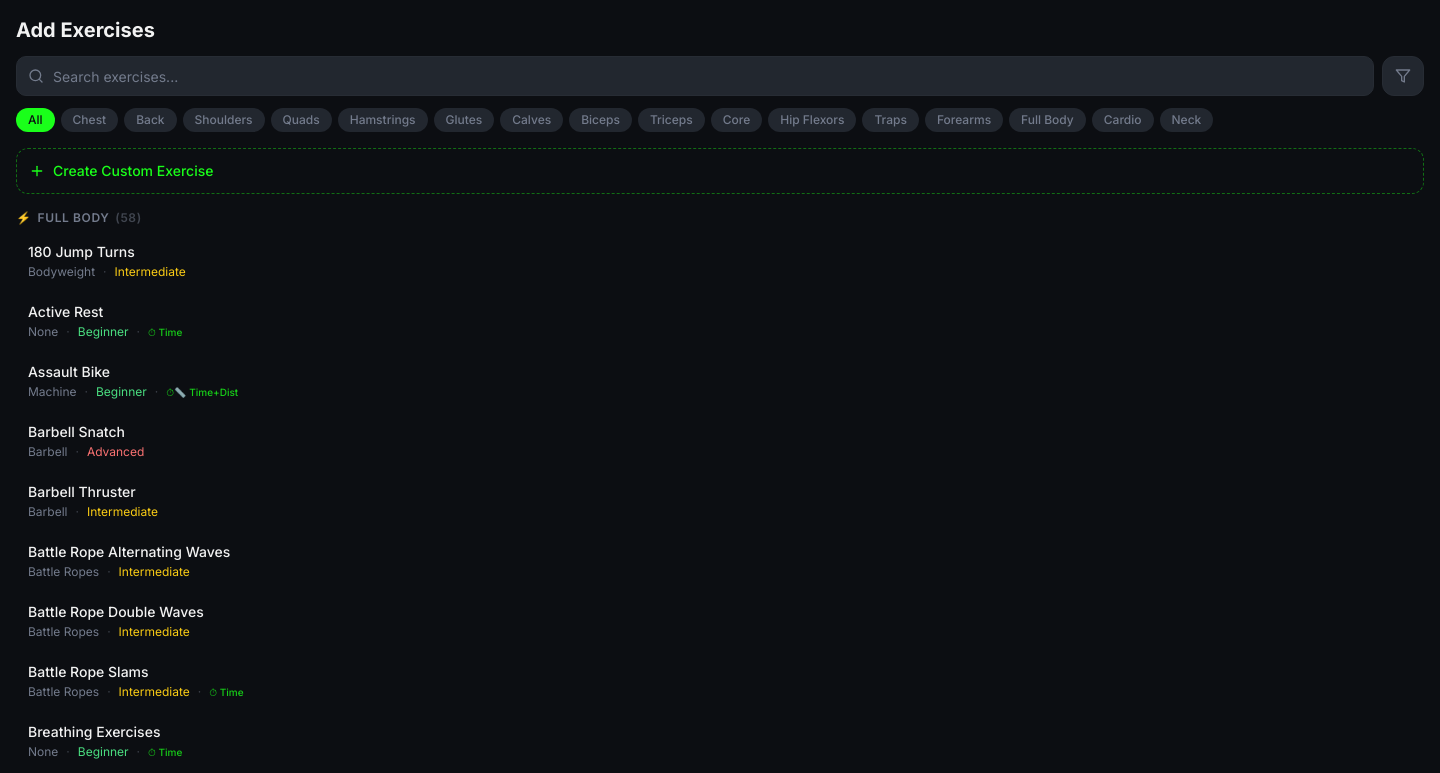
Test: ExerciseSelector result order › puts an exact name match first on screen
Type "hammer curl" into the field with placeholder "Search exercises...". click: point(695, 76)
box: [16,56,1374,96]
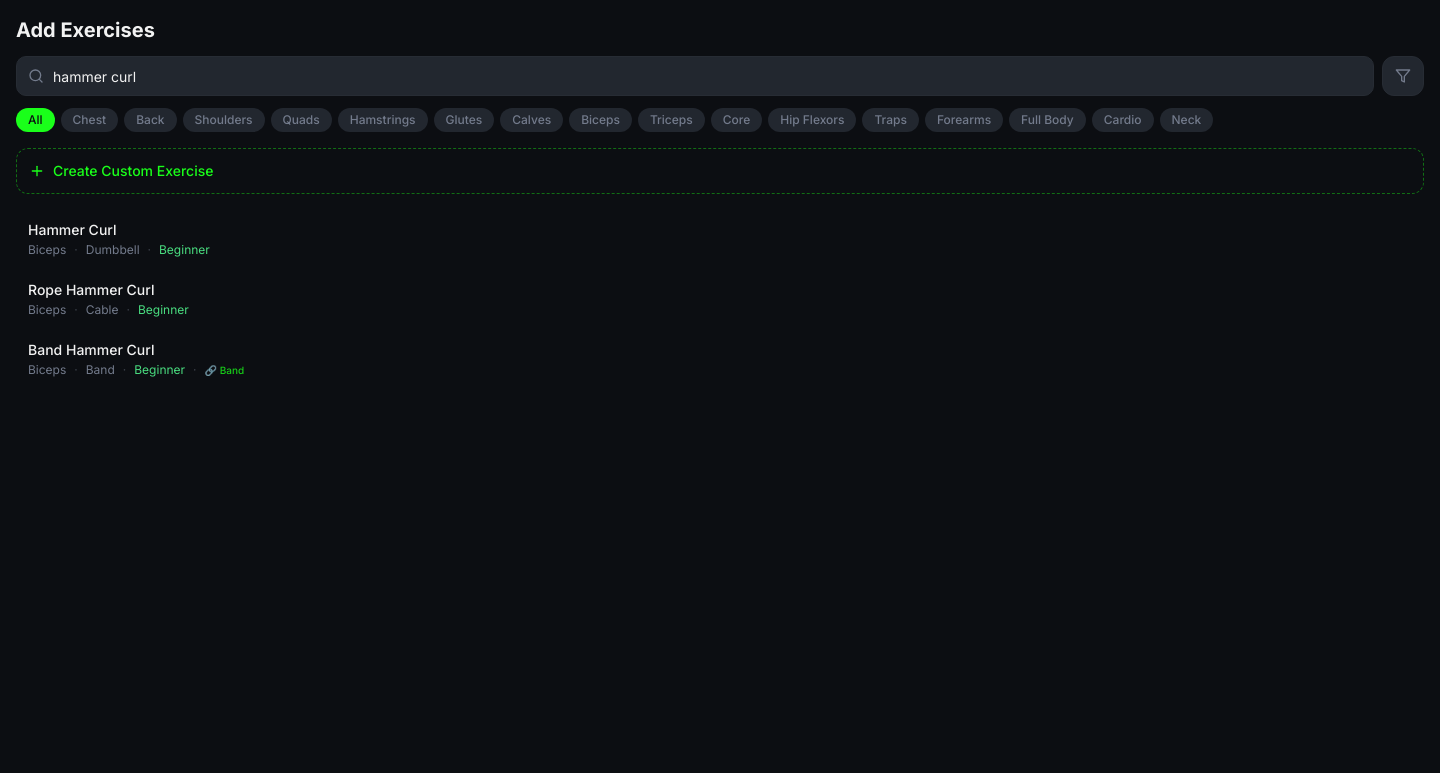
Expected: the text "Hammer Curl" is shown, [28,221,116,238]
Now the element with test id "exercise-results" is shown, box [16,210,1424,388]
